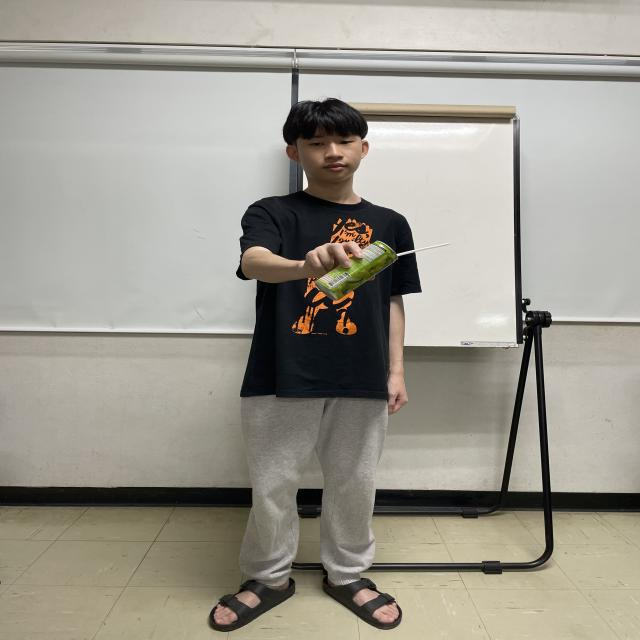can: (317, 240, 400, 302)
